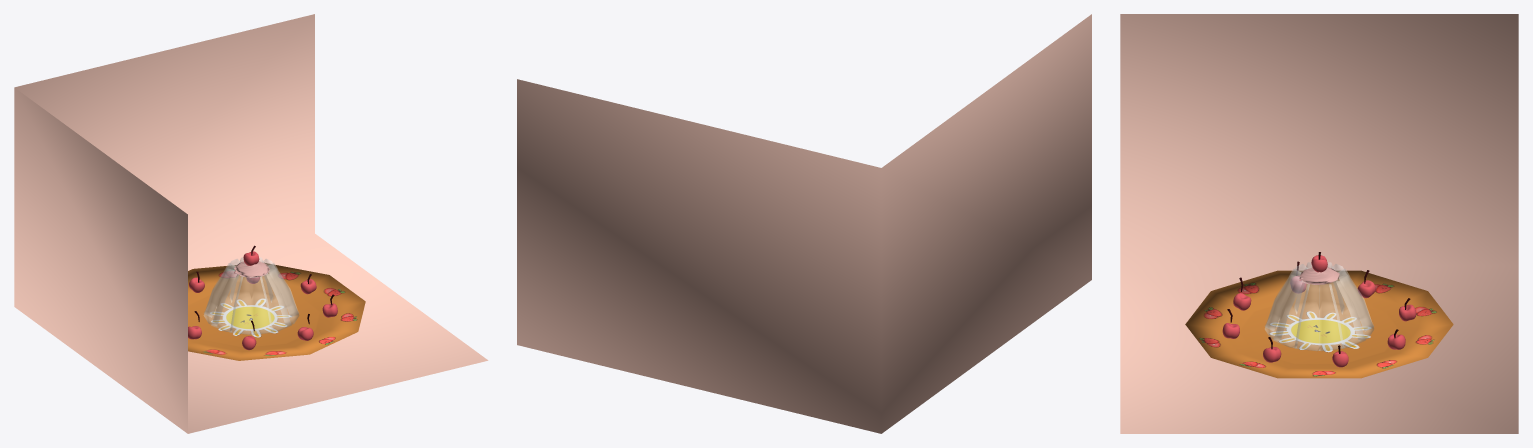
3 views of the same model, side by side, from view 1: azimuth 30°, elevation 25°; view 2: azimuth 150°, elevation 25°; view 3: azimuth 270°, elevation 25° (orthographic). The views are drawn at different scales.
Parts seen in each view (by area): view 1: 平面, 盘子, 布丁, 球体.002; view 2: 平面; view 3: 平面, 盘子, 布丁, 球体.002, 奶油.
Part boxes in pixels (x1,y1,x2,y2): 平面: (14,14,488,433); 盘子: (188,262,365,360); 布丁: (204,257,299,334); 球体.002: (188,277,337,350); 平面: (517,14,1091,433); 平面: (1120,14,1518,433); 盘子: (1185,270,1453,378); 布丁: (1264,262,1374,350); 球体.002: (1222,276,1416,367); 奶油: (1299,267,1339,284).
Bounding box in the file's own units: 13.11 × 9.14 × 13.11.
Materials: 7 (1 with a texture image).
